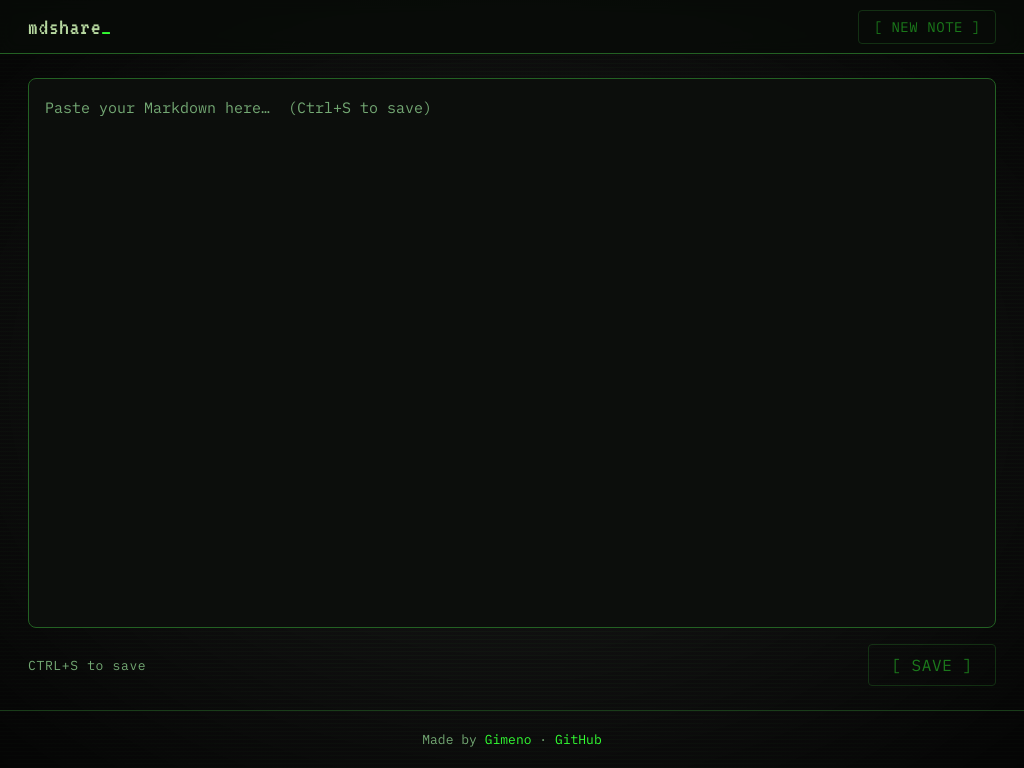
Test: clipboard failure during save is non-fatal and keeps the copy affordance
The image size is (1024, 768).
Type "# Saved" into the text box with placeholder "Paste your Markdown here… (Ctrl+S to save)" at (512, 353), box top-left (28, 78), bottom-right (996, 628)
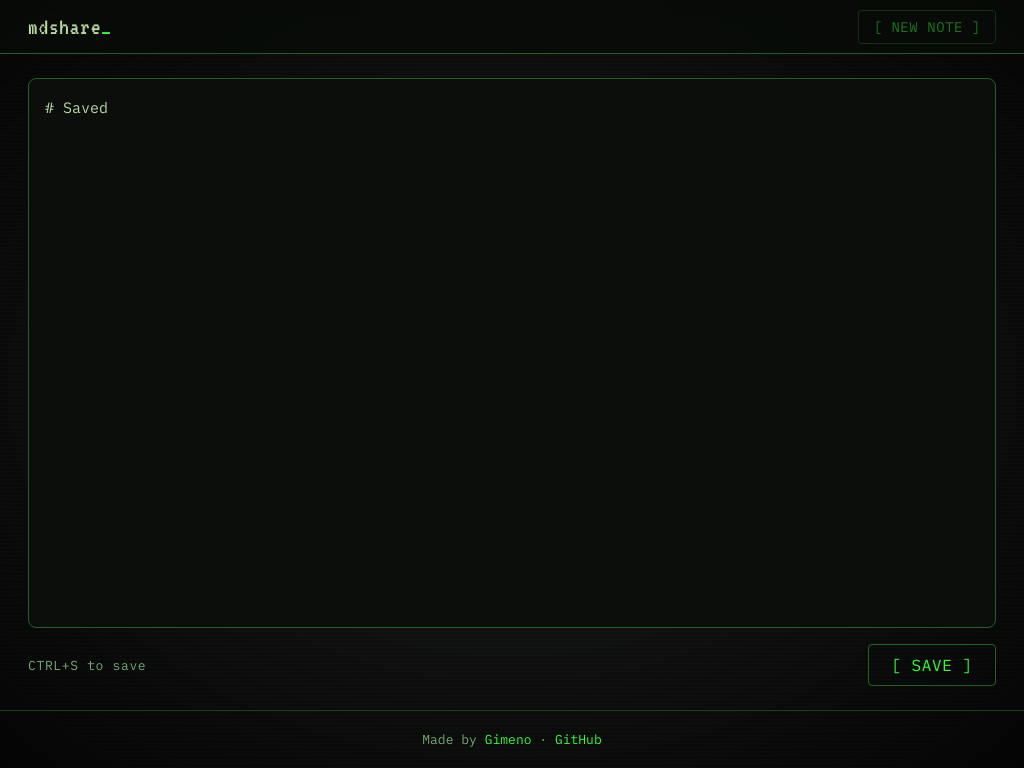
Click the button "[ SAVE ]" at (932, 665), box top-left (868, 644), bottom-right (996, 686)
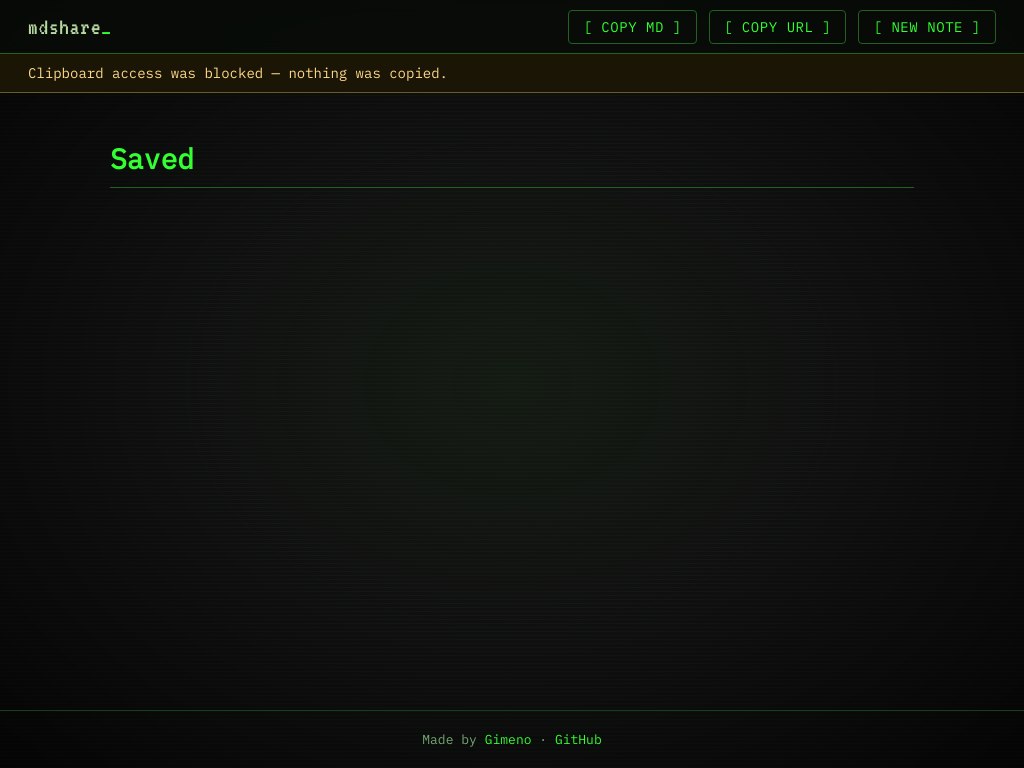
expect the heading "Saved" is shown: met, box top-left (110, 141), bottom-right (914, 188)
expect the button "[ COPY URL ]" is shown: met, box top-left (709, 10), bottom-right (846, 44)
expect the text "Clipboard access was blocked — nothing was copied." is shown: met, box top-left (0, 54), bottom-right (1023, 93)
